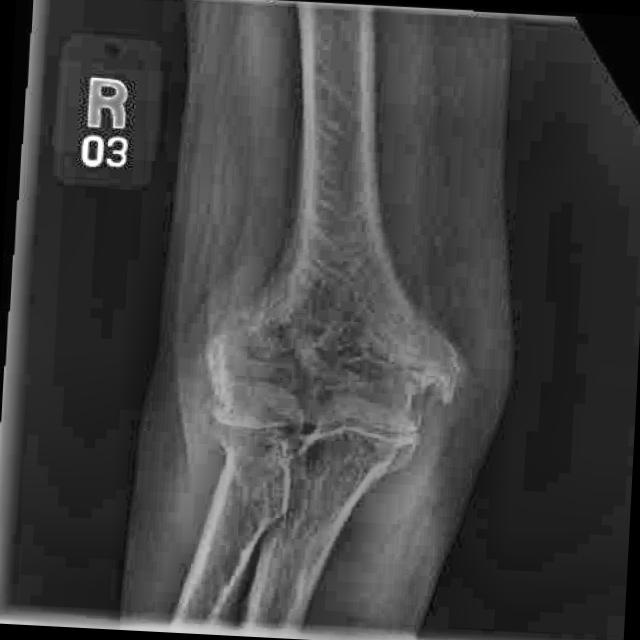elbow positive: (191, 442, 309, 546), (379, 338, 478, 442)
